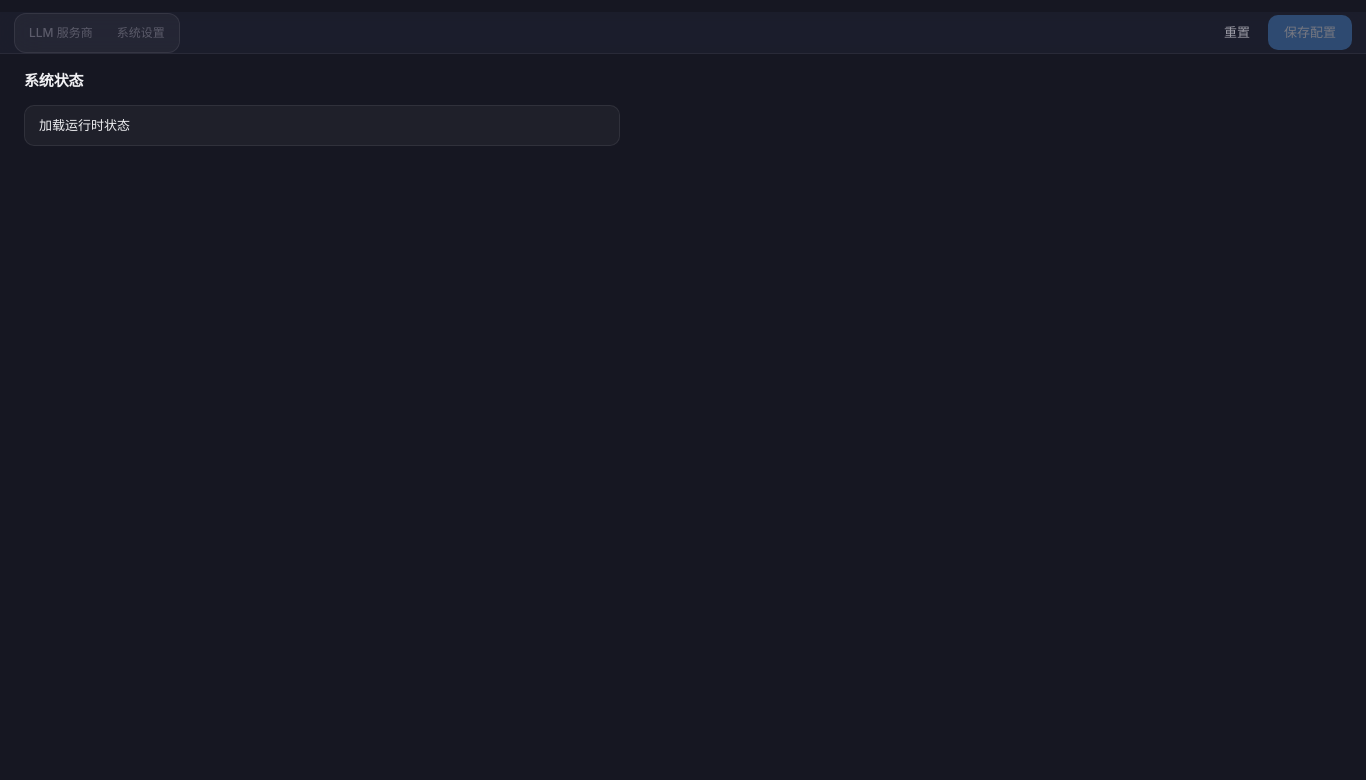
Test: SettingsView — E2E 关键路径 › renders backend percentage fields in System Status without multiplying them twice
This screenshot has width=1366, height=780.
Click the button with class "hc-status__trigger": (85, 124) [24,104,620,146]
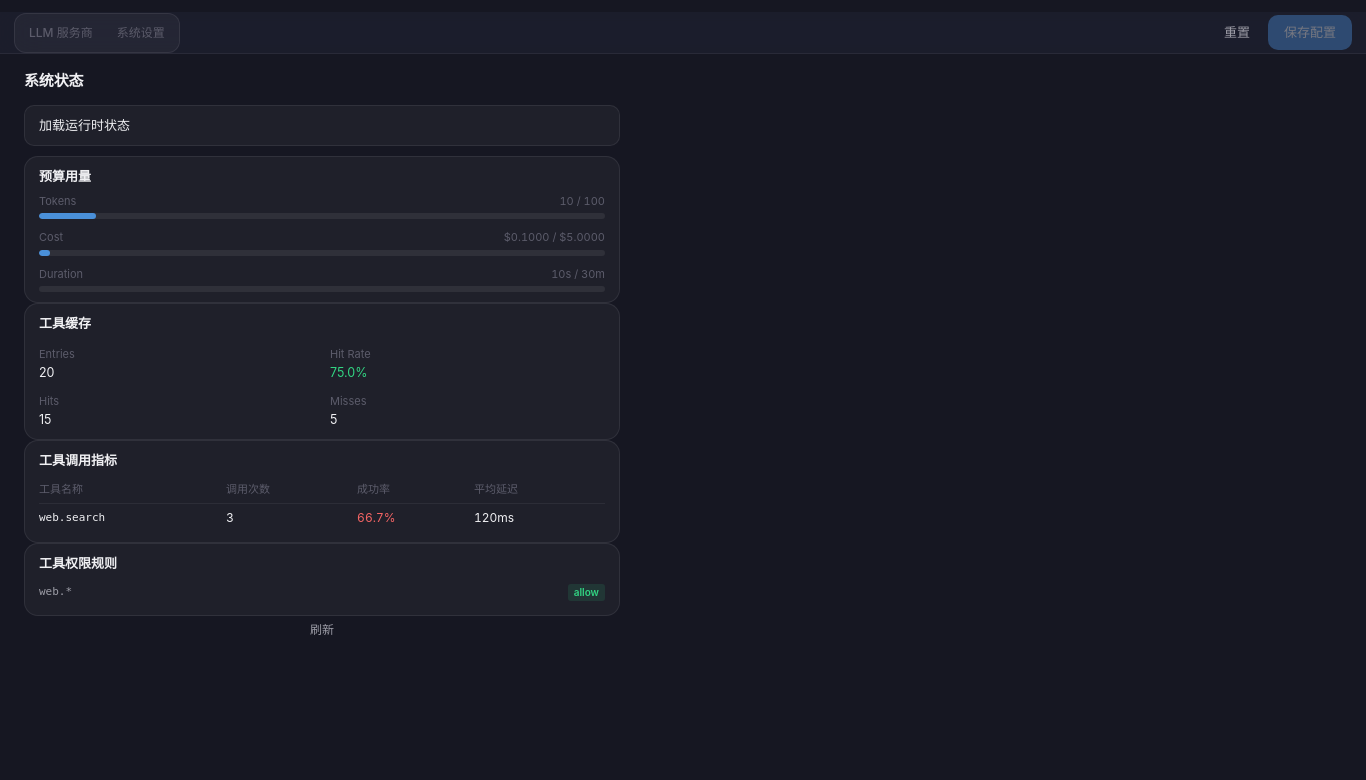
Now the text "75.0%" is shown, box [330,364,368,380]
Now the text "66.7%" is shown, box [357,504,474,532]
